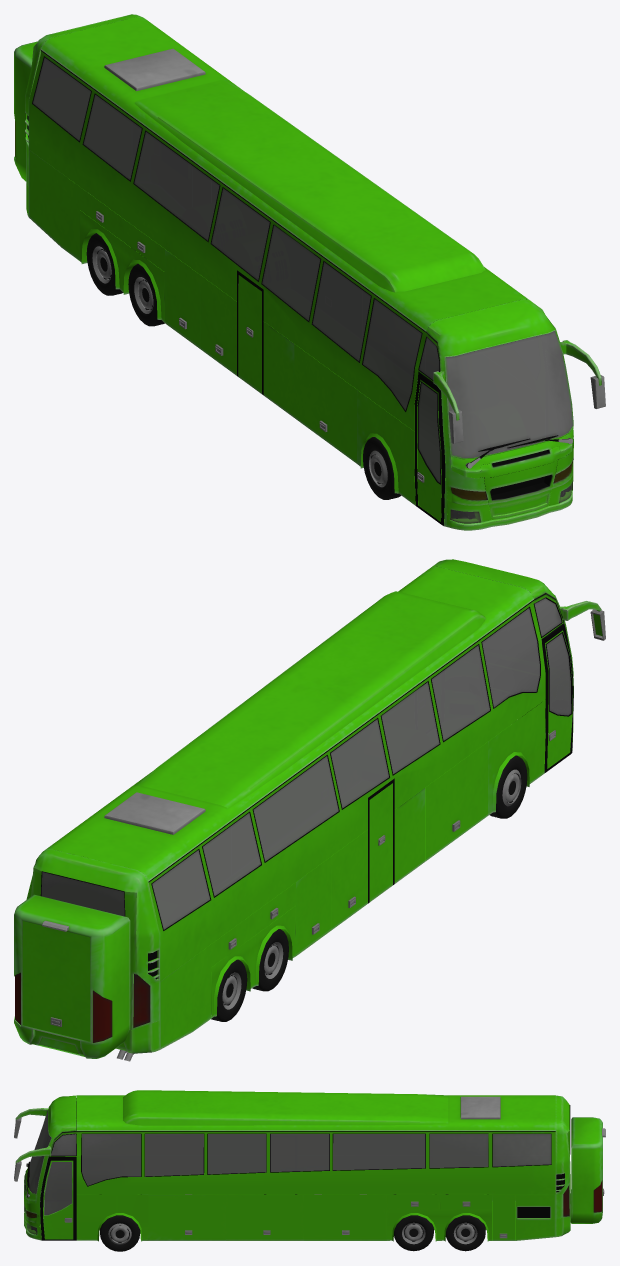
File: bus_long_green.glb
The picture shows the model from 3 angles, top to bottom: view 1: azimuth 30°, elevation 25°; view 2: azimuth 150°, elevation 25°; view 3: azimuth 270°, elevation 25°; orthographic projection. The views are drawn at different scales.
Visible parts, largest first — view 1: bus_long_body.001, bus_long_wheel_rear.001, bus_long_wheel_front.001; view 2: bus_long_body.001, bus_long_wheel_rear.001, bus_long_wheel_front.001; view 3: bus_long_body.001, bus_long_wheel_rear.001, bus_long_wheel_front.001.
Part boxes in pixels (<box>): bus_long_body.001: <box>14,14,605,530</box>; bus_long_wheel_rear.001: <box>86,233,164,326</box>; bus_long_wheel_front.001: <box>363,437,401,499</box>; bus_long_body.001: <box>14,559,605,1061</box>; bus_long_wheel_rear.001: <box>211,929,288,1021</box>; bus_long_wheel_front.001: <box>490,755,527,818</box>; bus_long_body.001: <box>14,1090,605,1241</box>; bus_long_wheel_rear.001: <box>394,1194,485,1251</box>; bus_long_wheel_front.001: <box>100,1215,140,1251</box>.
Size of the model in its own units: 2.97 by 3.89 by 16.06.
1 material, 1 textured.
